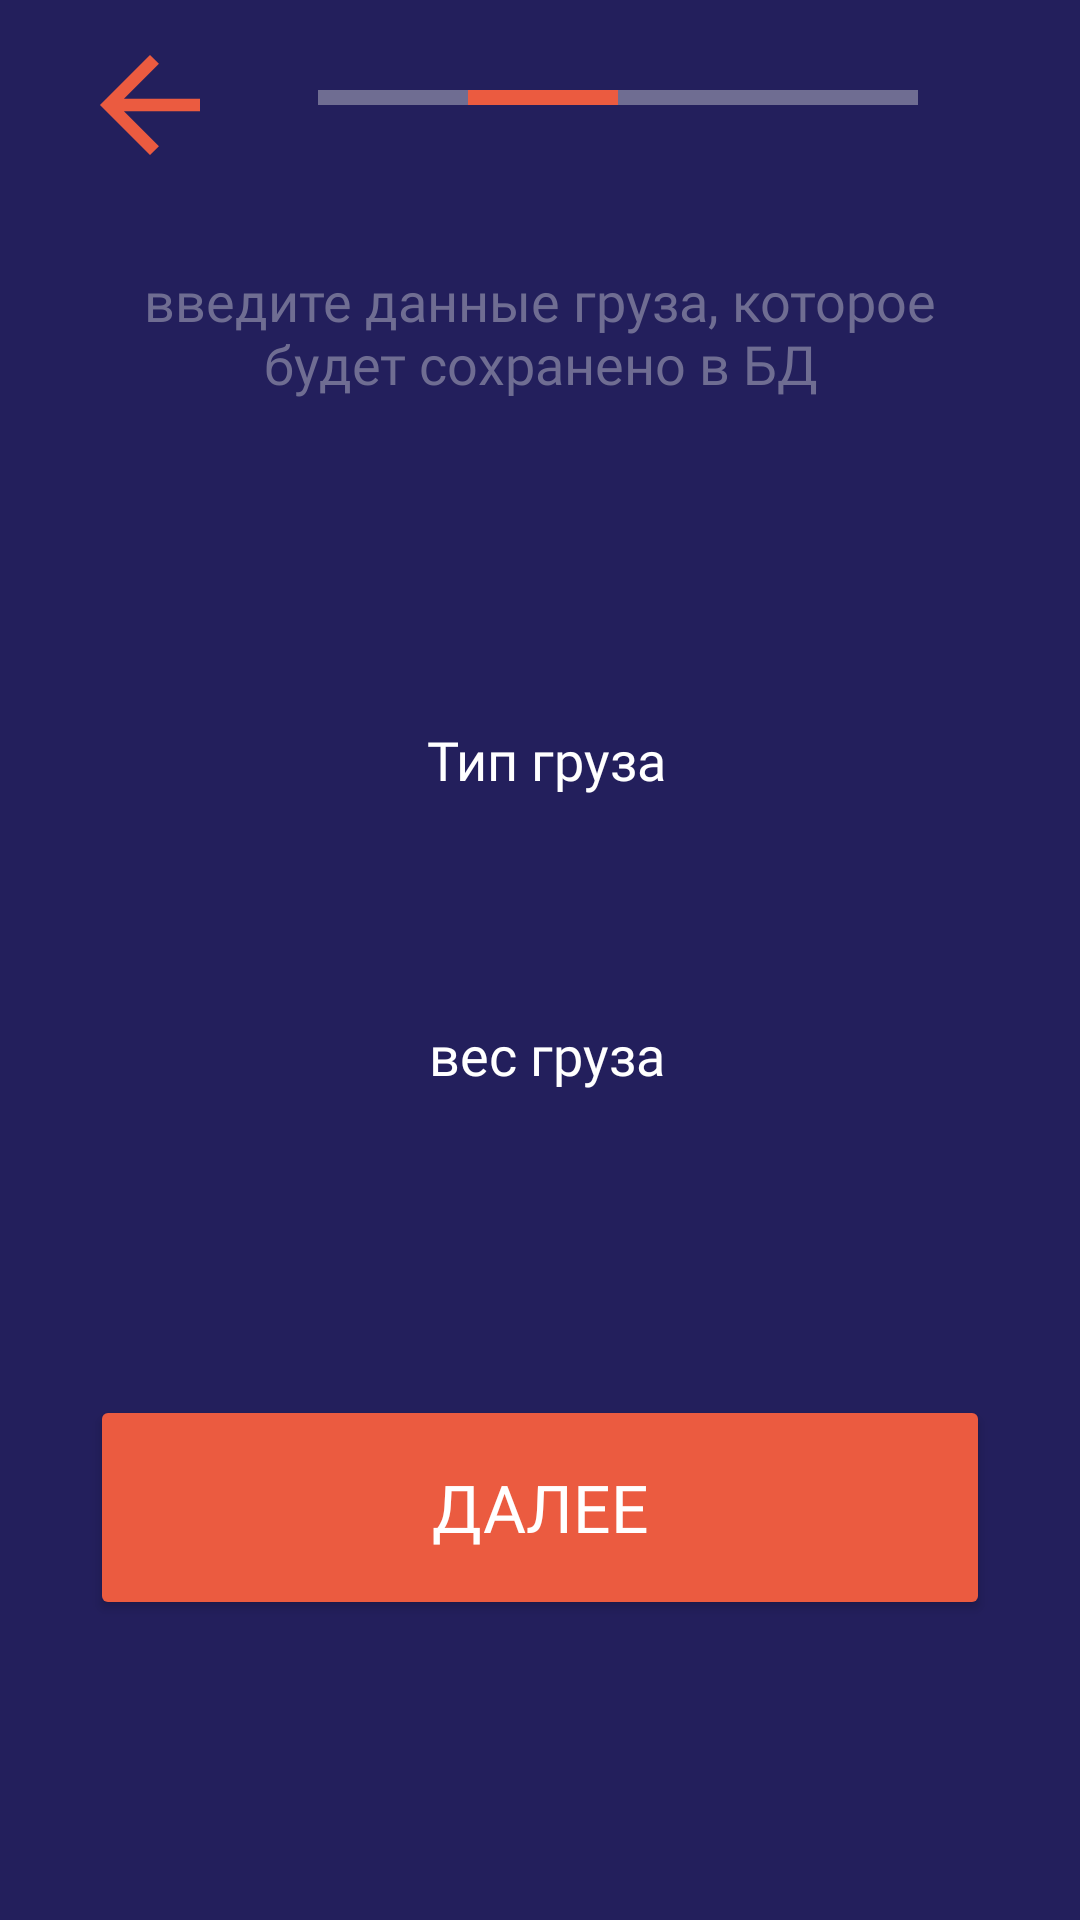

Icons on this 1080x1920 Android screen, each with its box as (x1, y1, x2, y2):
back: (100, 55, 200, 155)
